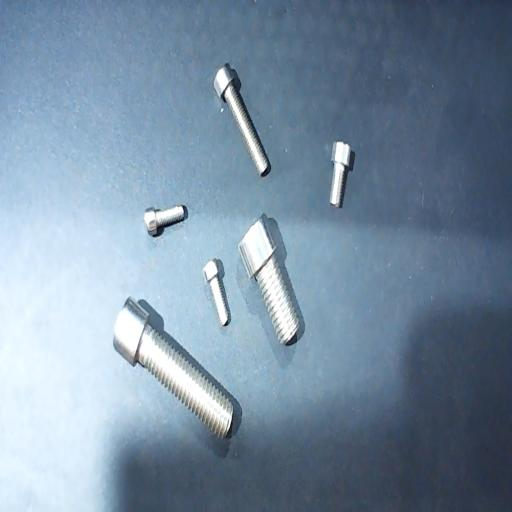screw: (114, 297, 234, 441), (237, 213, 300, 346), (214, 63, 270, 176), (203, 258, 230, 327), (329, 141, 351, 207), (144, 205, 184, 236)
